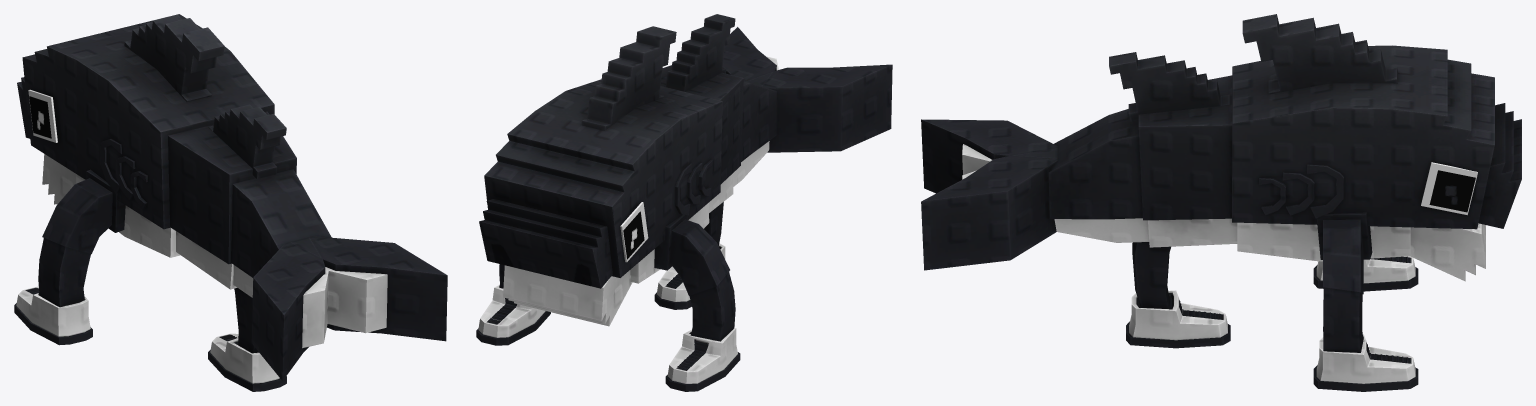
File: Orcalero Orcala.fbx
The picture shows the model from 3 angles, left to right: view 1: azimuth 30°, elevation 25°; view 2: azimuth 150°, elevation 25°; view 3: azimuth 270°, elevation 25°; orthographic projection. The views are drawn at different scales.
Visible parts, largest first — view 1: Orcalero Orcala; view 2: Orcalero Orcala; view 3: Orcalero Orcala.
Part boxes in pixels (box(x1,y1,x2,y2)): Orcalero Orcala: box(14, 14, 447, 391); Orcalero Orcala: box(476, 14, 892, 391); Orcalero Orcala: box(921, 14, 1521, 391).
Bounding box in the file's own units: 531 × 630 × 1090.
